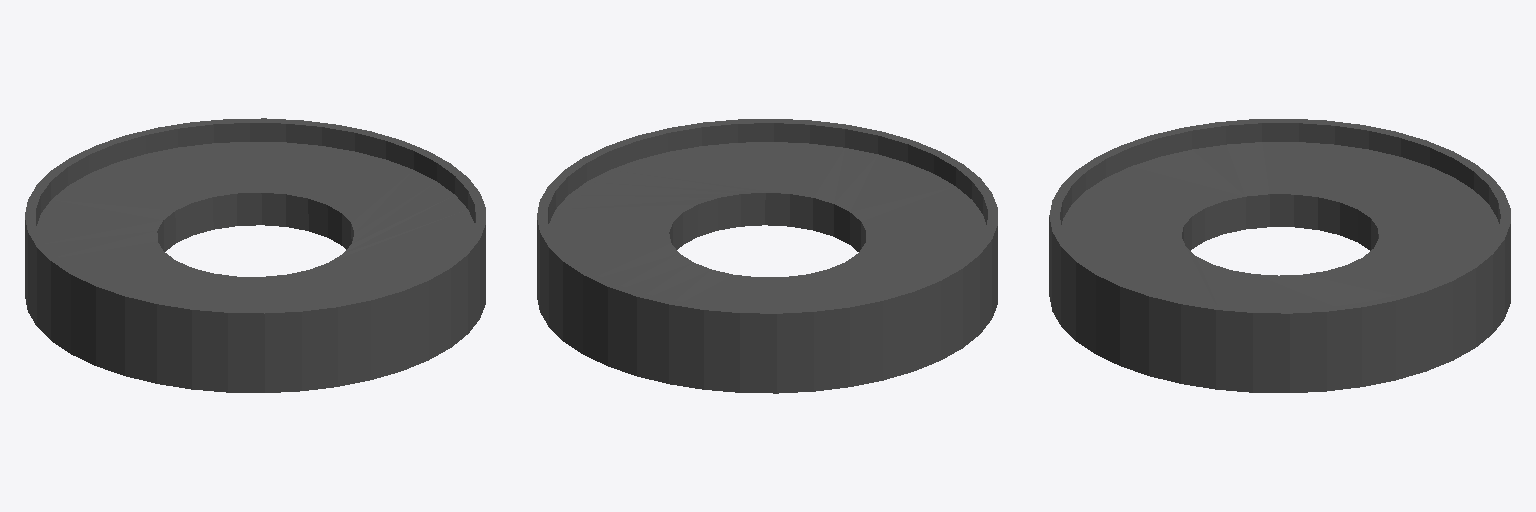
Rendered from wamLowerWristLink7.obj.
3 renders of one model, left to right at view 1: azimuth 30°, elevation 25°; view 2: azimuth 150°, elevation 25°; view 3: azimuth 270°, elevation 25°, orthographic.
Visible parts, largest first — view 1: wamLowerWristLink7_wamLowerWristLink7.001; view 2: wamLowerWristLink7_wamLowerWristLink7.001; view 3: wamLowerWristLink7_wamLowerWristLink7.001.
Boxes of the visible parts, x1,y1,x2,y2 form: wamLowerWristLink7_wamLowerWristLink7.001: [25, 118, 485, 392]; wamLowerWristLink7_wamLowerWristLink7.001: [537, 119, 997, 393]; wamLowerWristLink7_wamLowerWristLink7.001: [1049, 119, 1510, 392].
Size of the model in its own units: 0.0889 by 0.017 by 0.0889.